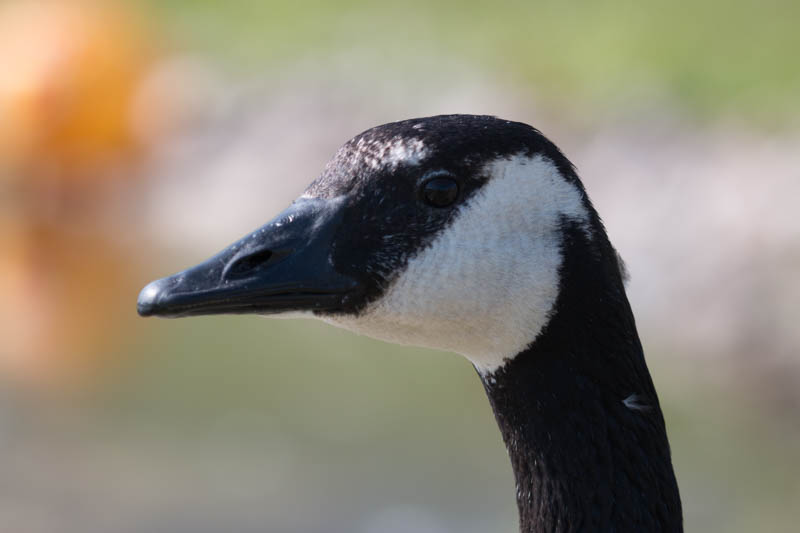goose-head: (136, 114, 619, 375)
